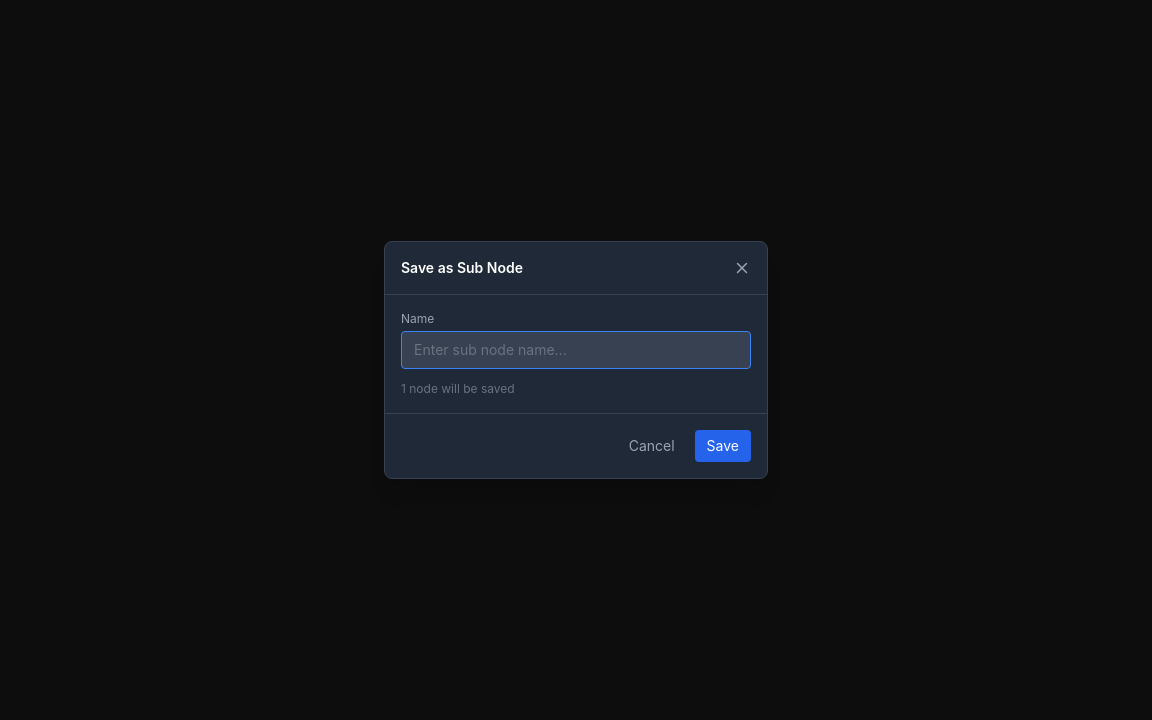
Test: SubNodeNameDialog › should show error when saving with empty name
Click the button "Save" at [723, 446], box x1=695 y1=430 x2=751 y2=462
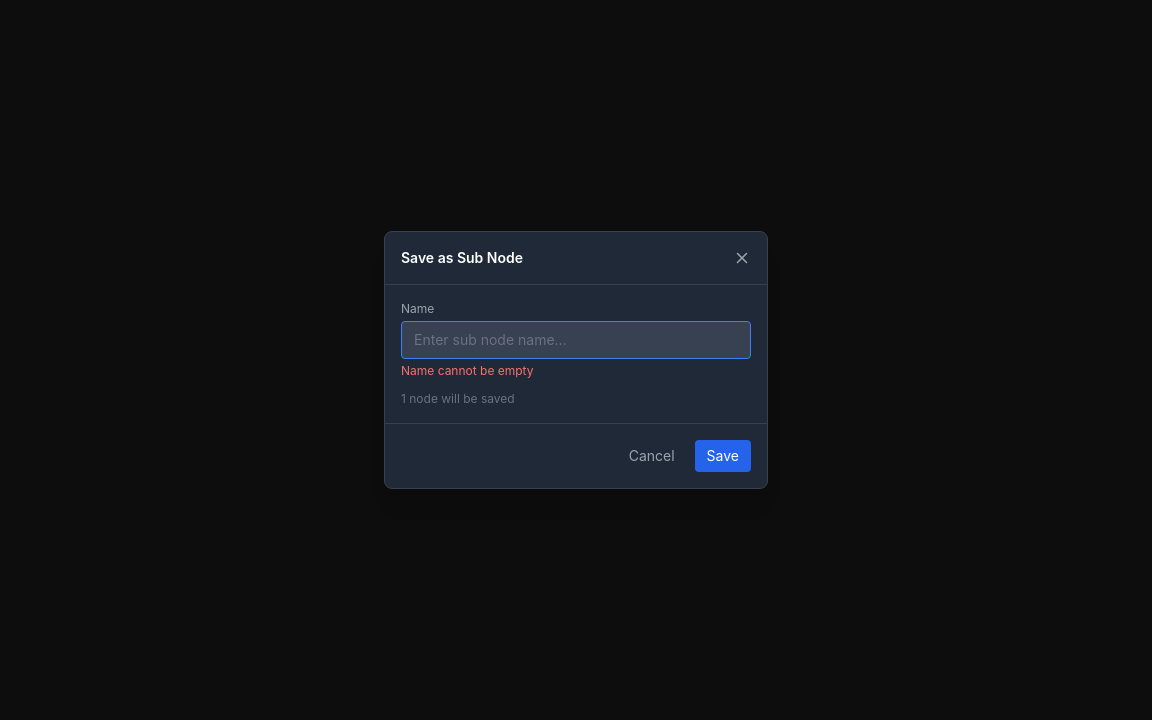
Expected: the text "Name cannot be empty" is shown, x1=401 y1=363 x2=534 y2=378
